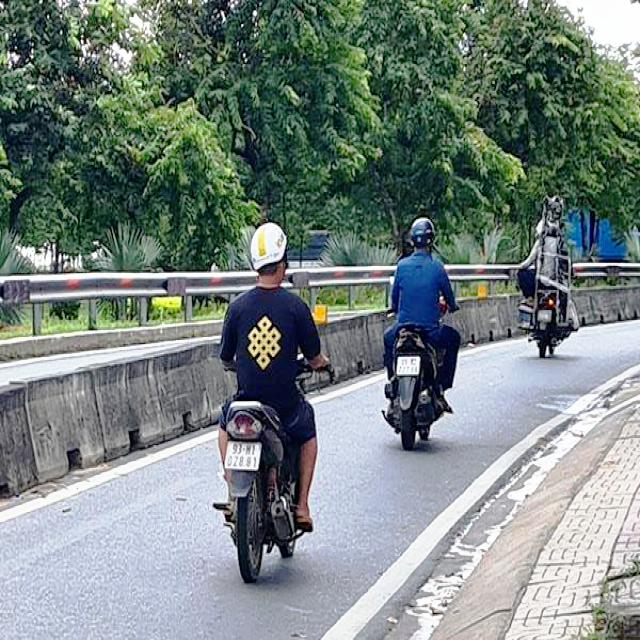license_plate: (225, 442, 263, 472)
